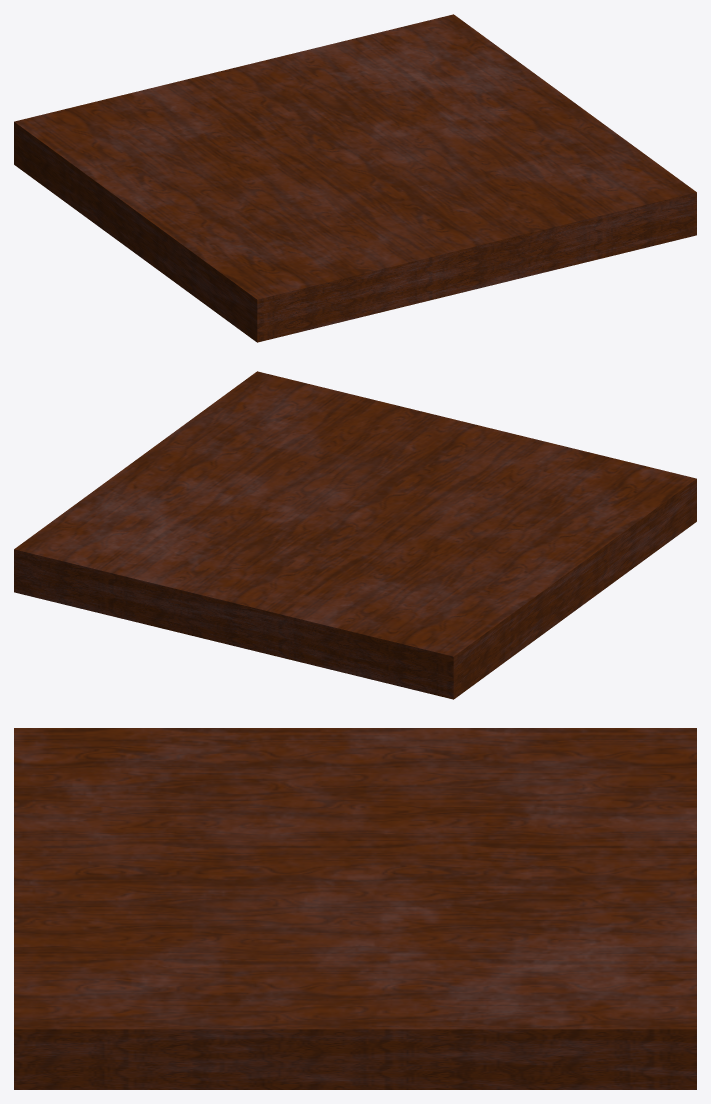
File: wooden_floor.glb
The picture shows the model from 3 angles, top to bottom: view 1: azimuth 30°, elevation 25°; view 2: azimuth 150°, elevation 25°; view 3: azimuth 270°, elevation 25°; orthographic projection. The views are drawn at different scales.
Visible parts, largest first — view 1: pCube4; view 2: pCube4; view 3: pCube4.
Boxes of the visible parts, left/top/right/bottom form: pCube4: left=14, top=14, right=696, bottom=342; pCube4: left=14, top=371, right=696, bottom=699; pCube4: left=14, top=728, right=696, bottom=1089.
Bounding box in the file's own units: 2.09 × 0.1952 × 2.
Materials: 1 (1 with a texture image).
